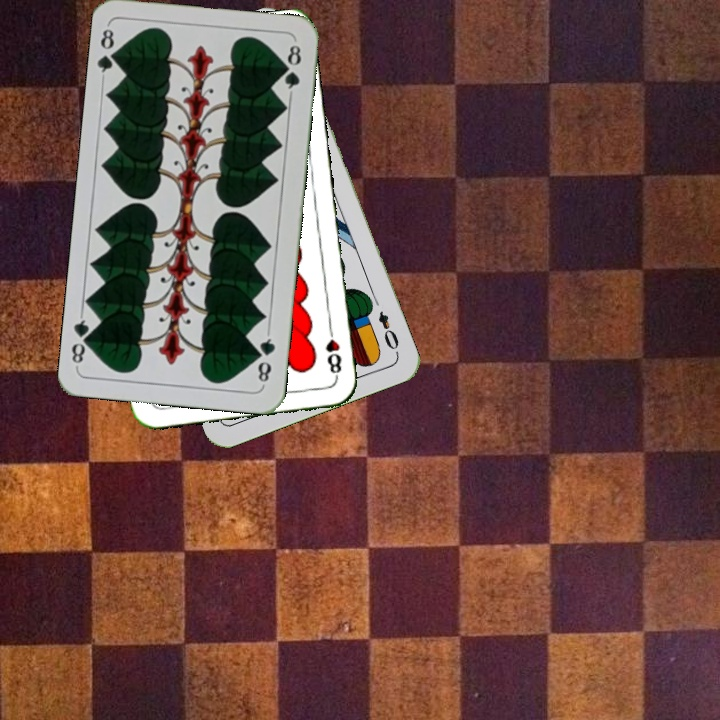EO: (374, 307, 401, 353)
G8: (94, 22, 123, 81), (253, 329, 278, 388)
H8: (321, 321, 344, 381)
